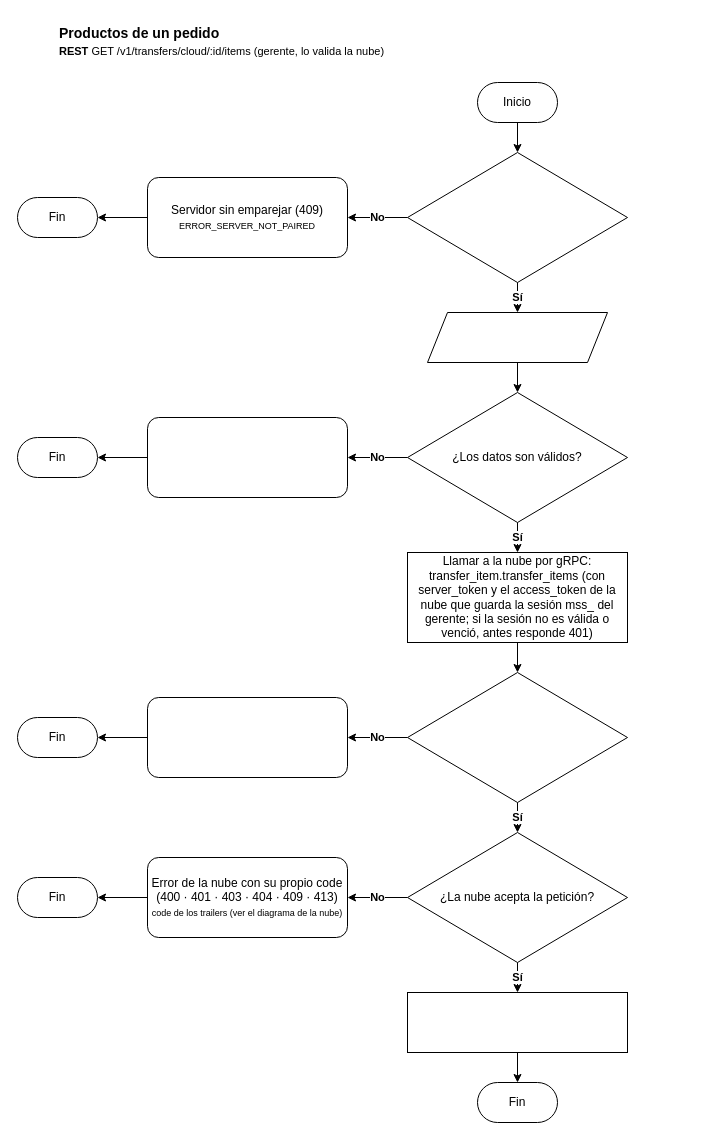
The diagram is 715 pixels wide and 1140 high, and some of its shapes have lost their labels. The centre of each missing label's shape, as x and y in pixels:
Datos inválidos (400) ERROR_BAD_REQUEST: point 247,457
La nube no responde (503) ERROR_CLOUD_UNAVAILABLE · ERROR_SERVER_UNLINKED: point 247,737
Recibir datos: point 517,337
Responder 200 con el mensaje ITEMS_RETRIEVED: point 517,1022
¿El servidor ya se emparejó alguna vez (pairing_status distinto de unpaired)?: point 517,217
¿La nube responde antes de 10 s?: point 517,737
